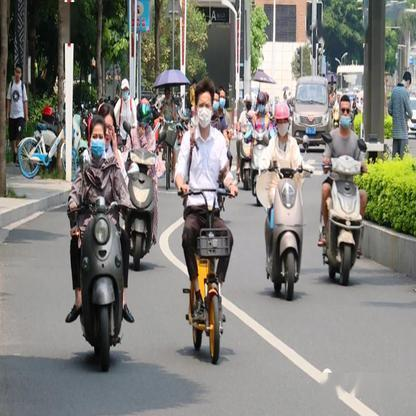target: (176, 77, 245, 366), (65, 114, 139, 374), (253, 100, 311, 302), (316, 93, 375, 285)
